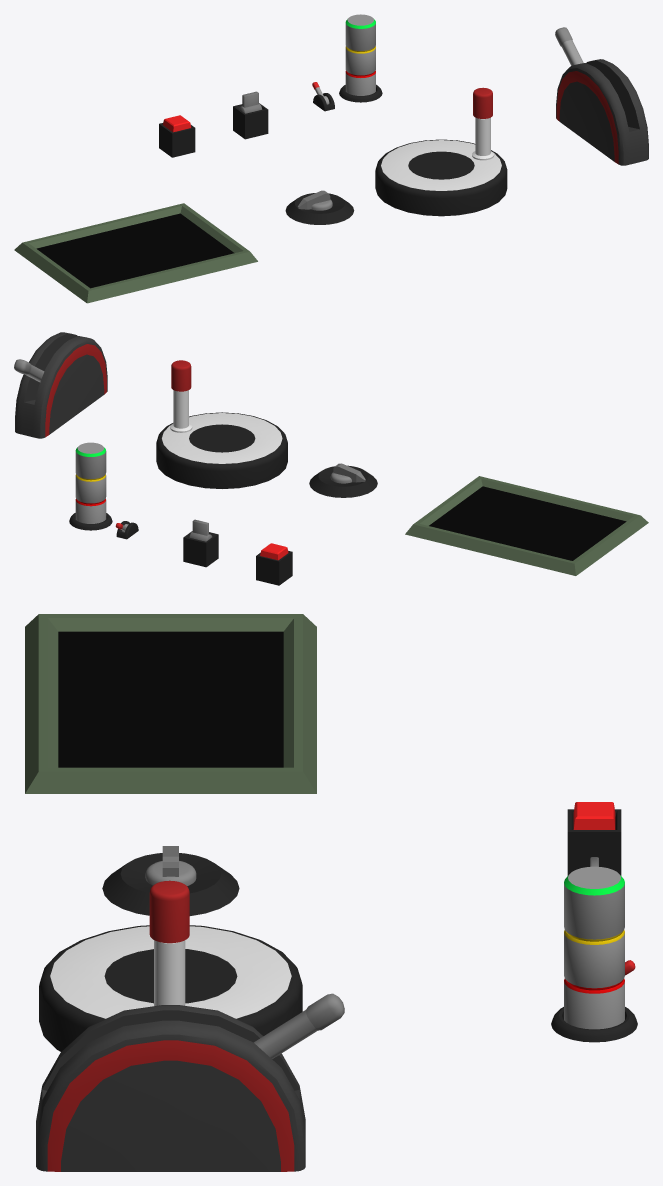
The model's file is interactives.glb.
3 renders of one model, top to bottom at view 1: azimuth 30°, elevation 25°; view 2: azimuth 150°, elevation 25°; view 3: azimuth 270°, elevation 25°, orthographic. The views are drawn at different scales.
Visible parts, largest first — view 1: Cube, crank_base, lever_big, Circle, crank_handle, Circle.002, switch_base, button_base, lever_big_handle.001, Cube.003; view 2: Cube, crank_base, lever_big, Circle, crank_handle, Circle.002, switch_base, button_base, Cube.003, lever_big_handle.001, Circle.001; view 3: Cube, lever_big, crank_base, Circle, crank_handle, Circle.002, button_base, lever_big_handle.001, Circle.001, Cube.003, button_button.
Boxes of the visible parts, x1=… form: Cube: x1=14, y1=203, x2=257, y2=303; crank_base: x1=375, y1=139, x2=507, y2=216; lever_big: x1=556, y1=59, x2=648, y2=165; Circle: x1=345, y1=14, x2=375, y2=95; crank_handle: x1=472, y1=87, x2=494, y2=160; Circle.002: x1=285, y1=193, x2=354, y2=224; switch_base: x1=233, y1=103, x2=268, y2=139; button_base: x1=159, y1=123, x2=195, y2=157; lever_big_handle.001: x1=555, y1=27, x2=583, y2=65; Cube.003: x1=297, y1=190, x2=332, y2=210; Cube: x1=405, y1=476, x2=648, y2=575; crank_base: x1=156, y1=412, x2=287, y2=488; lever_big: x1=15, y1=332, x2=107, y2=438; Circle: x1=75, y1=442, x2=106, y2=523; crank_handle: x1=170, y1=360, x2=192, y2=432; Circle.002: x1=309, y1=465, x2=377, y2=497; switch_base: x1=183, y1=531, x2=218, y2=567; button_base: x1=256, y1=550, x2=292, y2=585; Cube.003: x1=330, y1=463, x2=365, y2=483; lever_big_handle.001: x1=14, y1=359, x2=44, y2=382; Circle.001: x1=69, y1=513, x2=112, y2=530; Cube: x1=25, y1=614, x2=316, y2=793; lever_big: x1=36, y1=1005, x2=305, y2=1171; crank_base: x1=39, y1=925, x2=302, y2=1051; Circle: x1=564, y1=866, x2=624, y2=1029; crank_handle: x1=149, y1=880, x2=189, y2=1006; Circle.002: x1=102, y1=853, x2=239, y2=915; button_base: x1=567, y1=809, x2=621, y2=875; lever_big_handle.001: x1=254, y1=993, x2=344, y2=1058; Circle.001: x1=551, y1=1007, x2=637, y2=1042; Cube.003: x1=145, y1=846, x2=196, y2=885; button_button: x1=573, y1=802, x2=615, y2=829.
Size of the model in its own units: 1.54 by 0.2401 by 0.7235.
